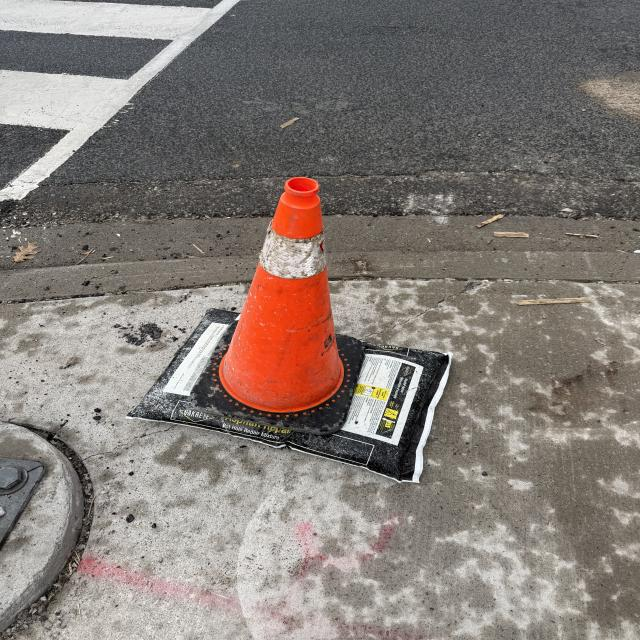Traffic Cone: (206, 177, 363, 435)
